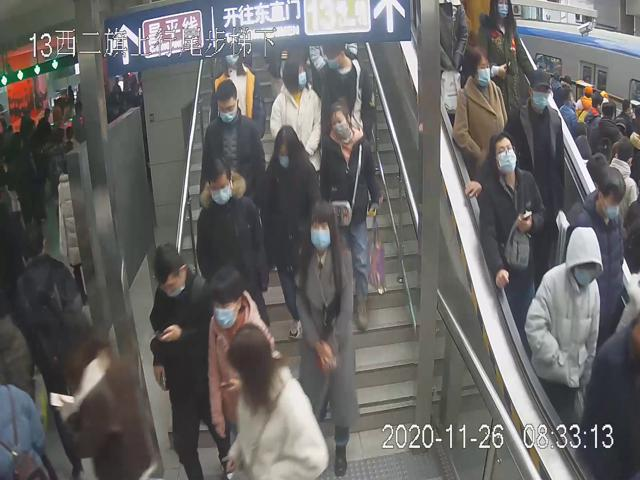person: (293, 199, 358, 480), (320, 96, 383, 336), (197, 154, 271, 333), (263, 123, 321, 340), (480, 130, 545, 316), (451, 45, 509, 188), (199, 78, 266, 194), (266, 51, 324, 175)
